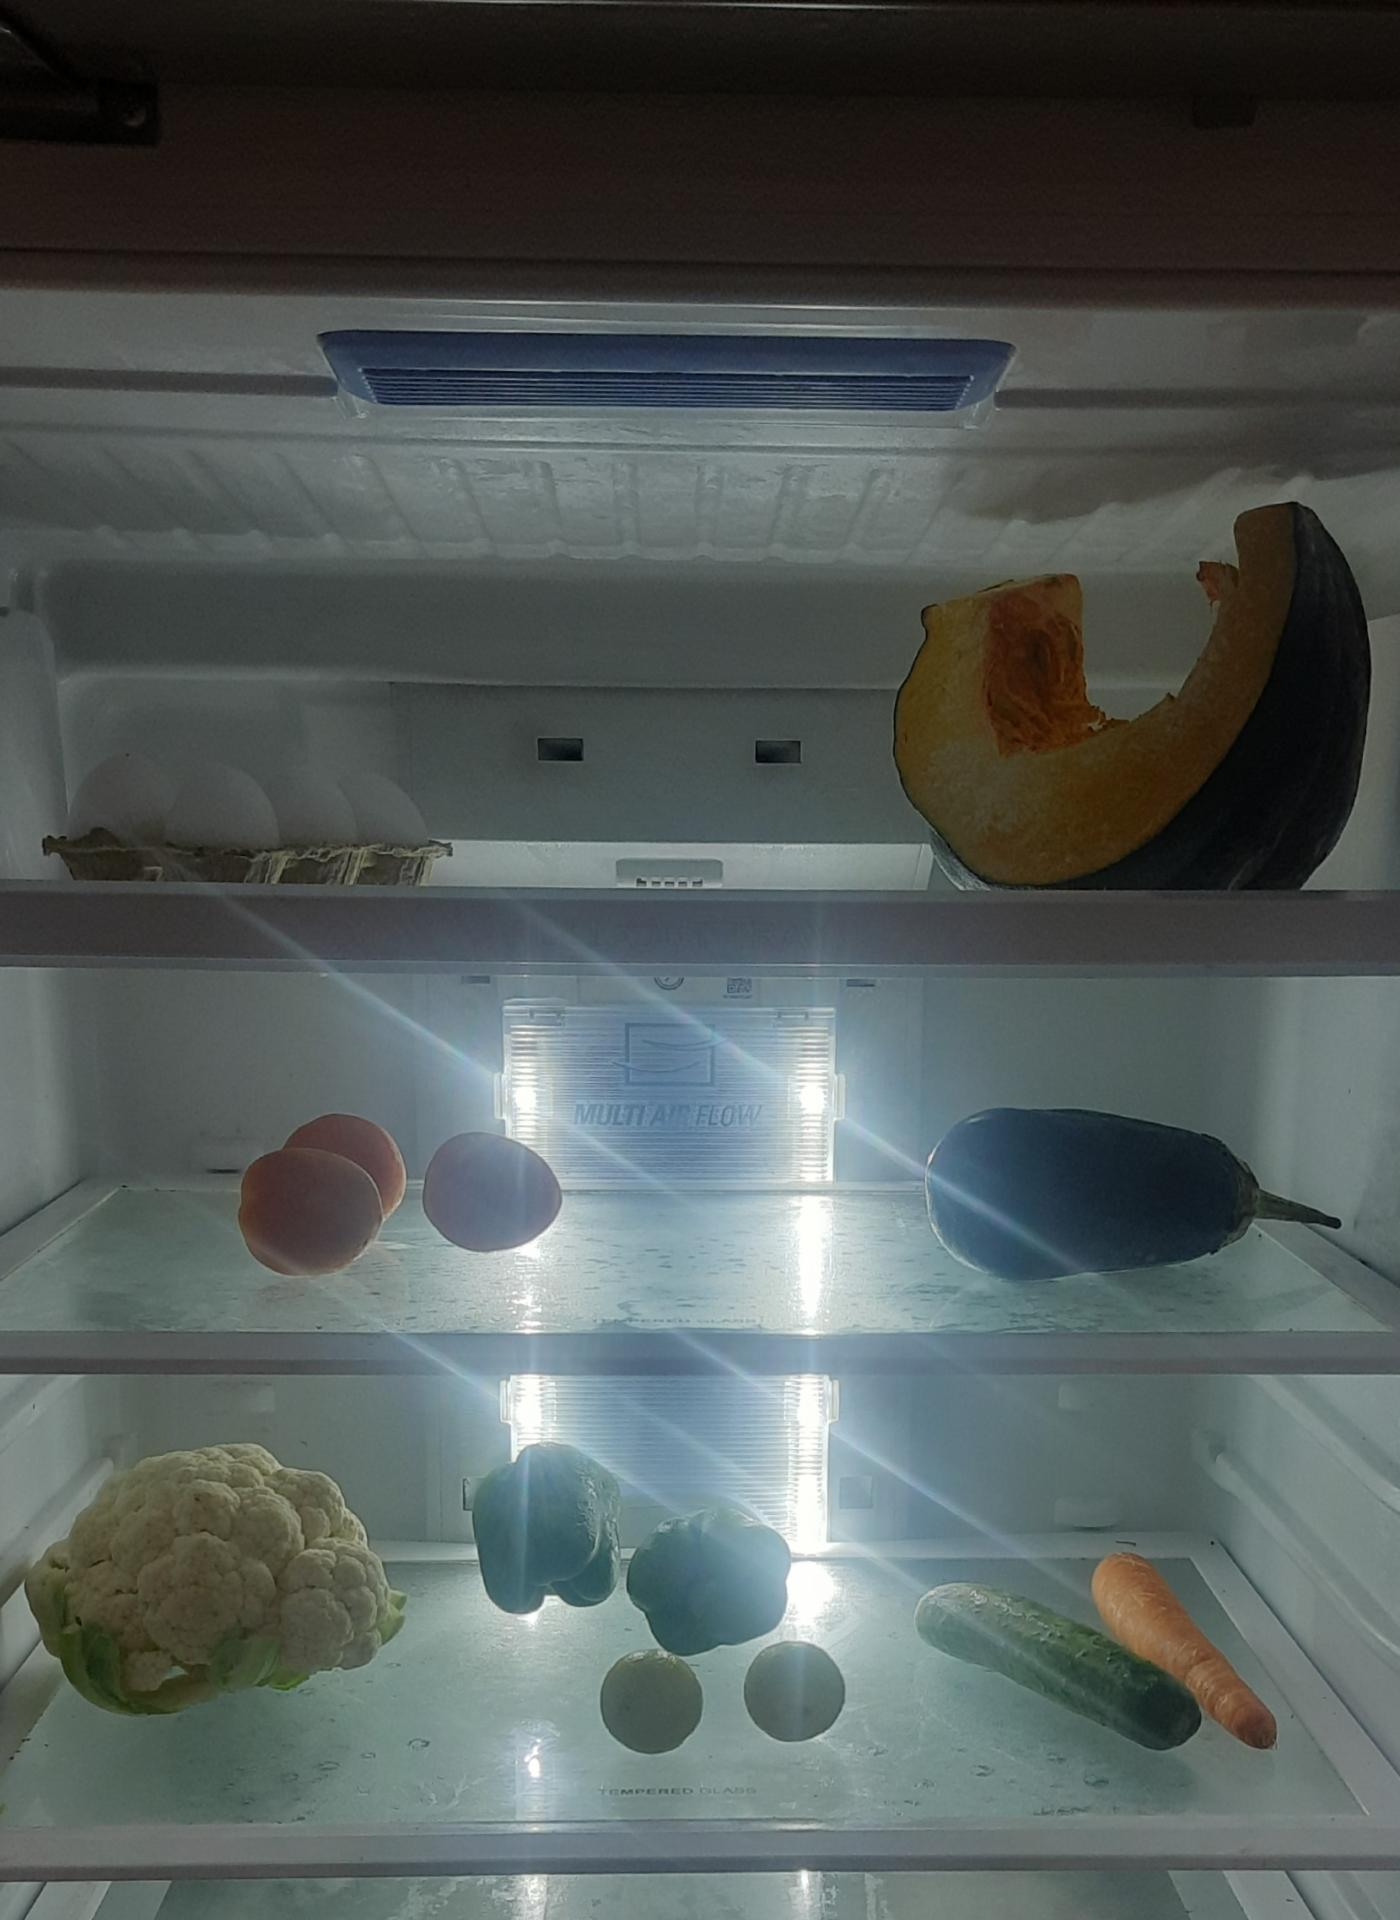brinjal: (921, 1099, 1349, 1292)
capsicum: (474, 1441, 629, 1616), (623, 1515, 795, 1664)
carrots: (1096, 1553, 1288, 1760)
cauliflower: (30, 1453, 403, 1719)
cucumber: (906, 1565, 1202, 1760)
egg: (42, 733, 447, 874), (1257, 1295, 1302, 1301)
lemon: (740, 1634, 851, 1746), (596, 1644, 704, 1758)
pumpkin: (896, 514, 1381, 908)
tomato: (234, 1114, 409, 1276), (410, 1130, 577, 1258)
